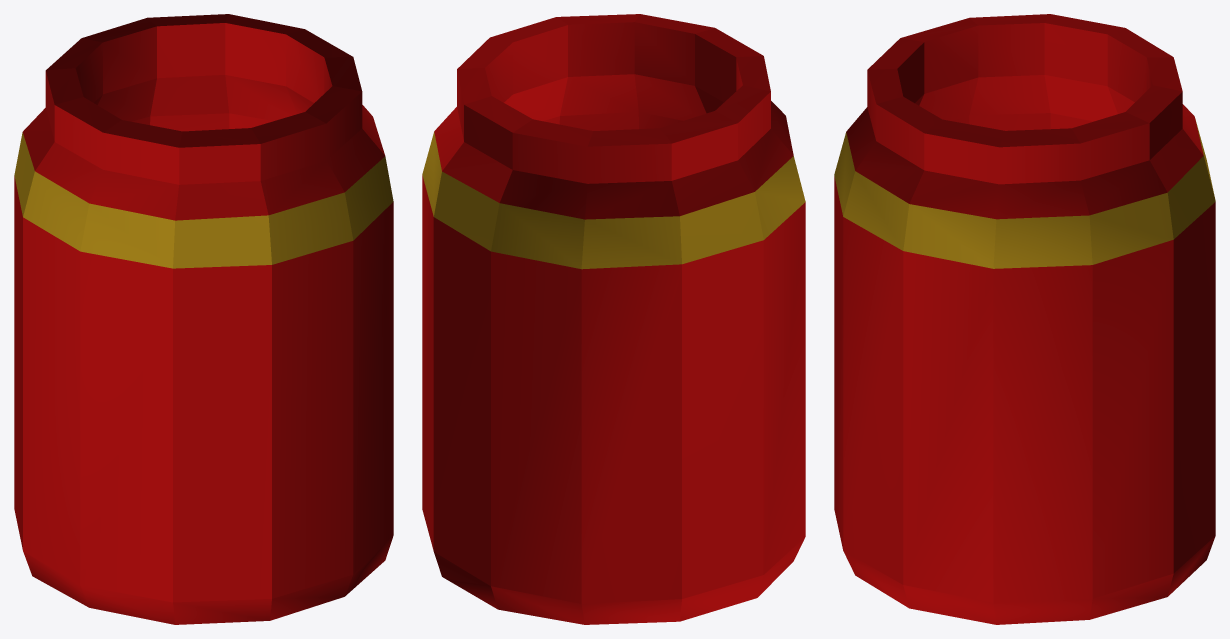
Rendered from Soda Can 2.fbx.
3 views of the same model, side by side, from view 1: azimuth 30°, elevation 25°; view 2: azimuth 150°, elevation 25°; view 3: azimuth 270°, elevation 25° (orthographic).
Visible parts, largest first — view 1: Node 0; view 2: Node 0; view 3: Node 0.
Part boxes in pixels (x1,y1,x2,y2): Node 0: (14, 14, 393, 624); Node 0: (422, 14, 805, 624); Node 0: (834, 14, 1215, 624).
Bounding box in the file's own units: 0.1269 × 0.1729 × 0.1269.
